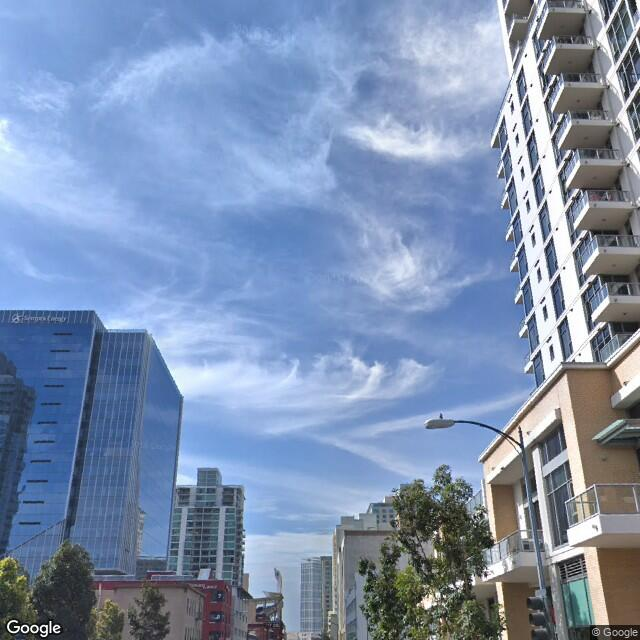light: (422, 413, 455, 430)
window: (528, 429, 577, 541), (554, 317, 576, 358), (583, 276, 610, 305), (543, 245, 561, 276)
